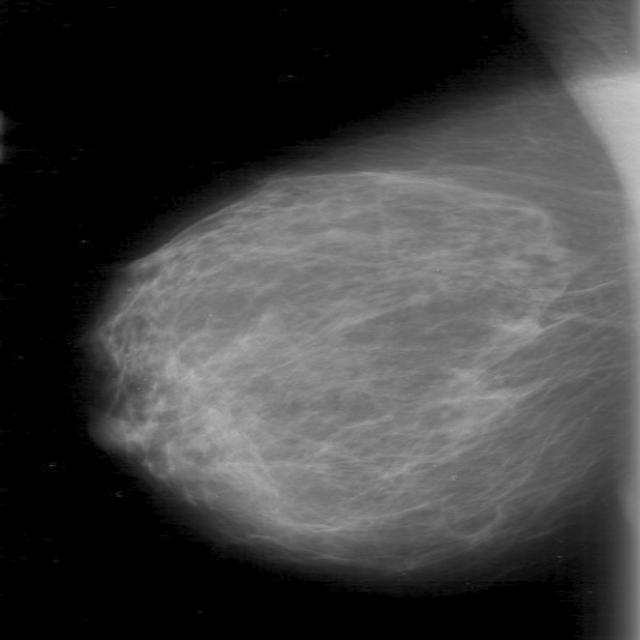tumour: (442, 368, 528, 446)
